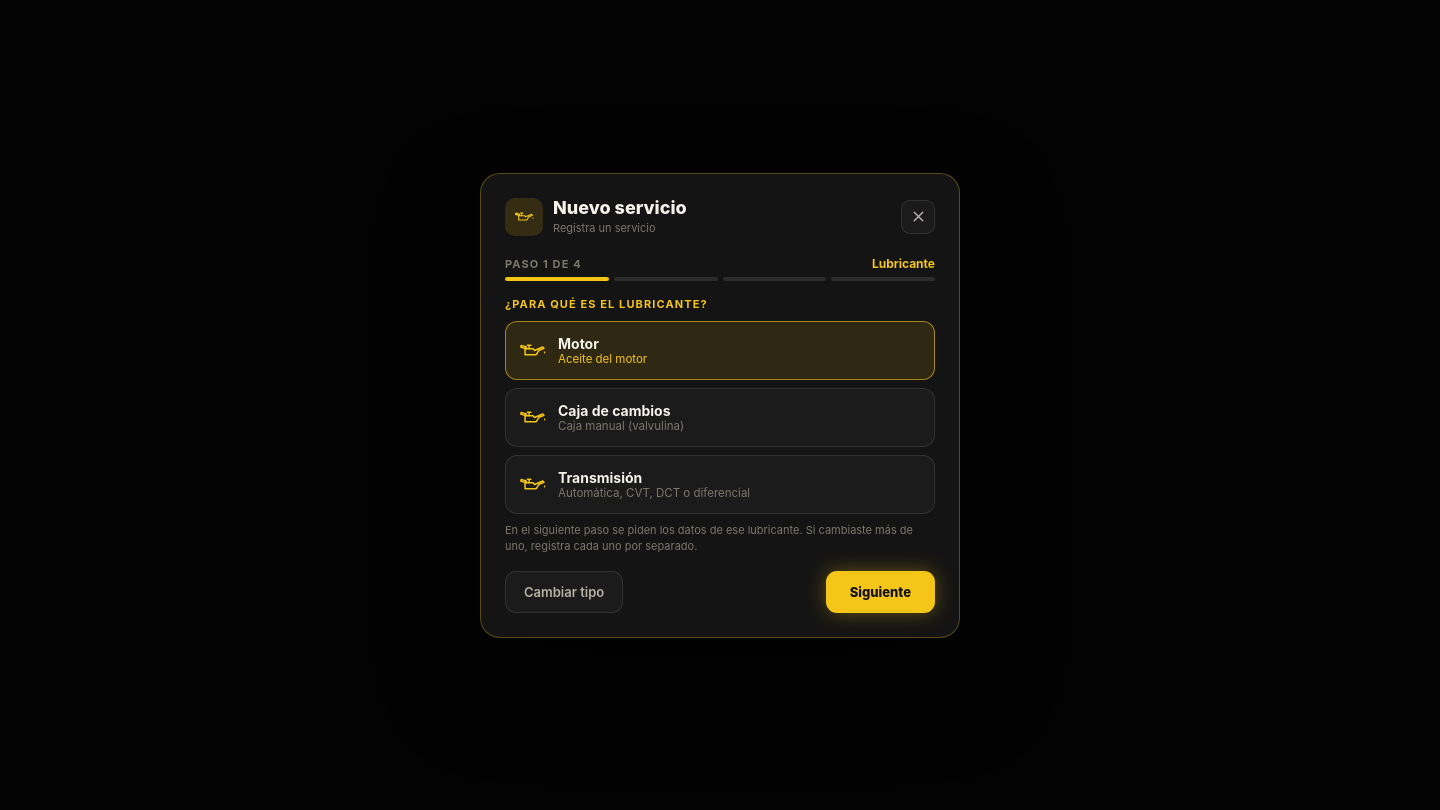
Test case: Registrar servicio > Aceite (primer paso: tipo de lubricante) › caja pide marca, viscosidad de valvulina y norma; no avanza sin marca y viscosidad
Click the radio button labelled "Caja de cambios Caja manual (valvulina)": (614, 410) [505,388,935,446]
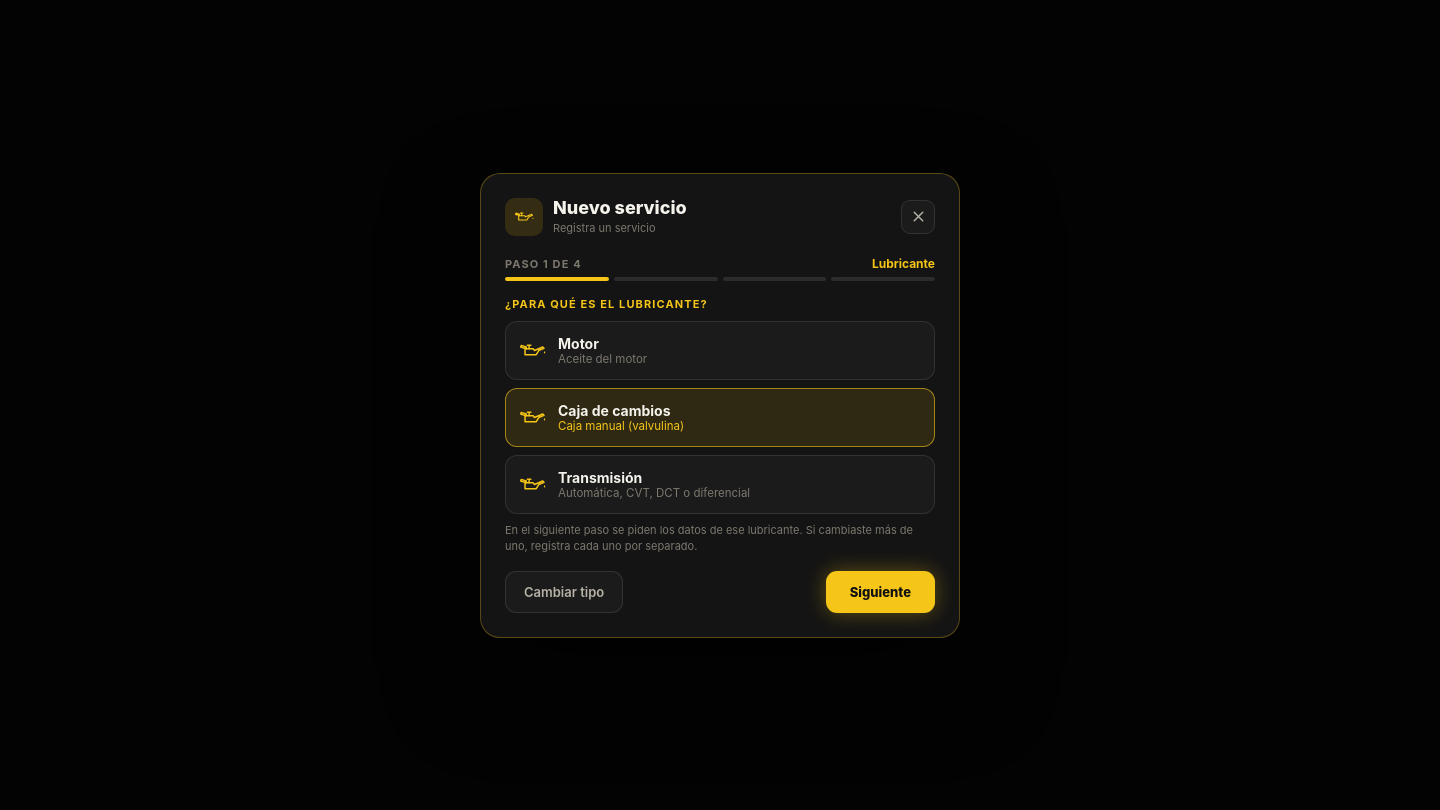
Click the button "Siguiente": (880, 592) [826,570,935,612]
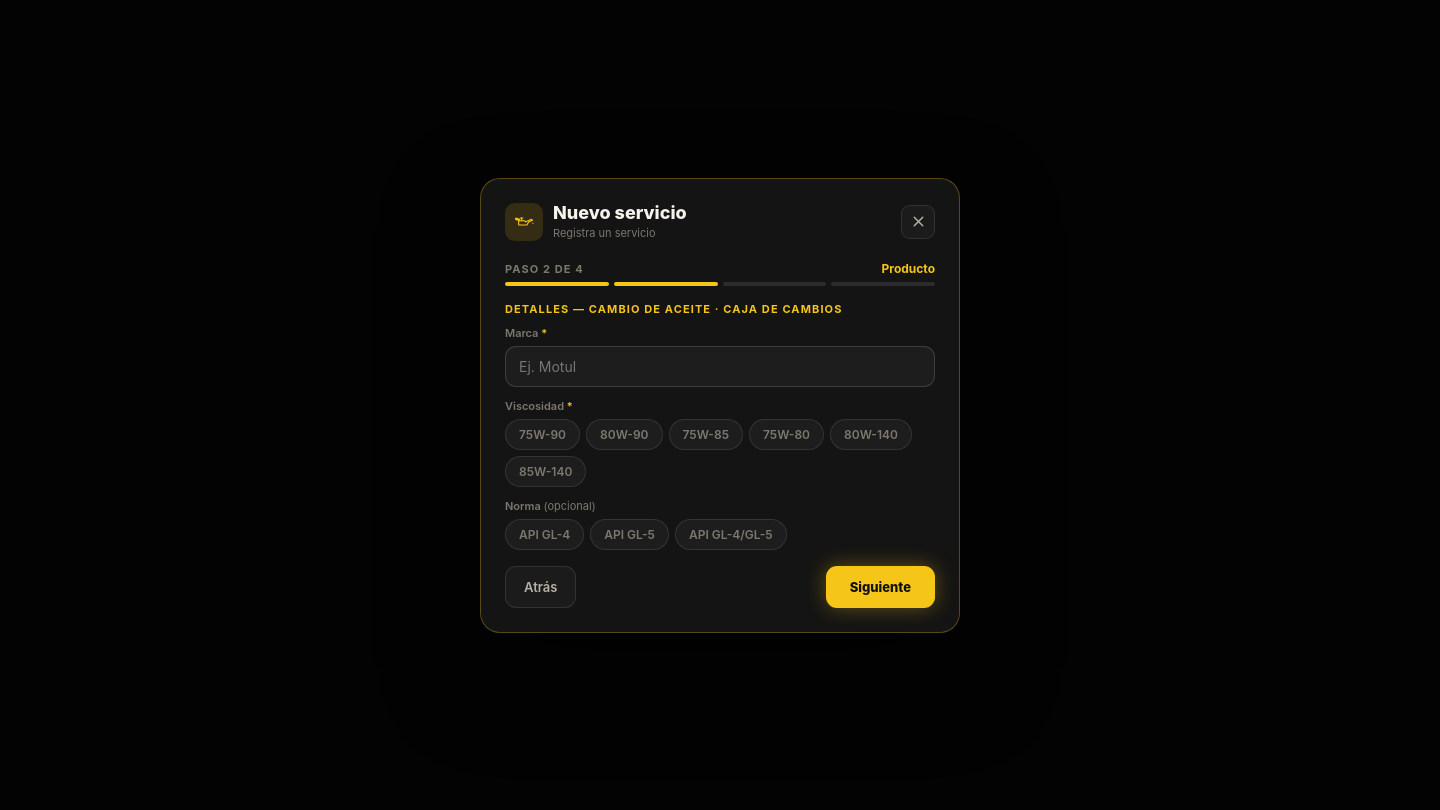
Now the radio button "75W-90" is shown, box [505,418,580,450]
Now the radio button "API GL-5" is shown, box [590,518,669,550]
Click the button "Siguiente": (880, 586) [826,566,935,608]
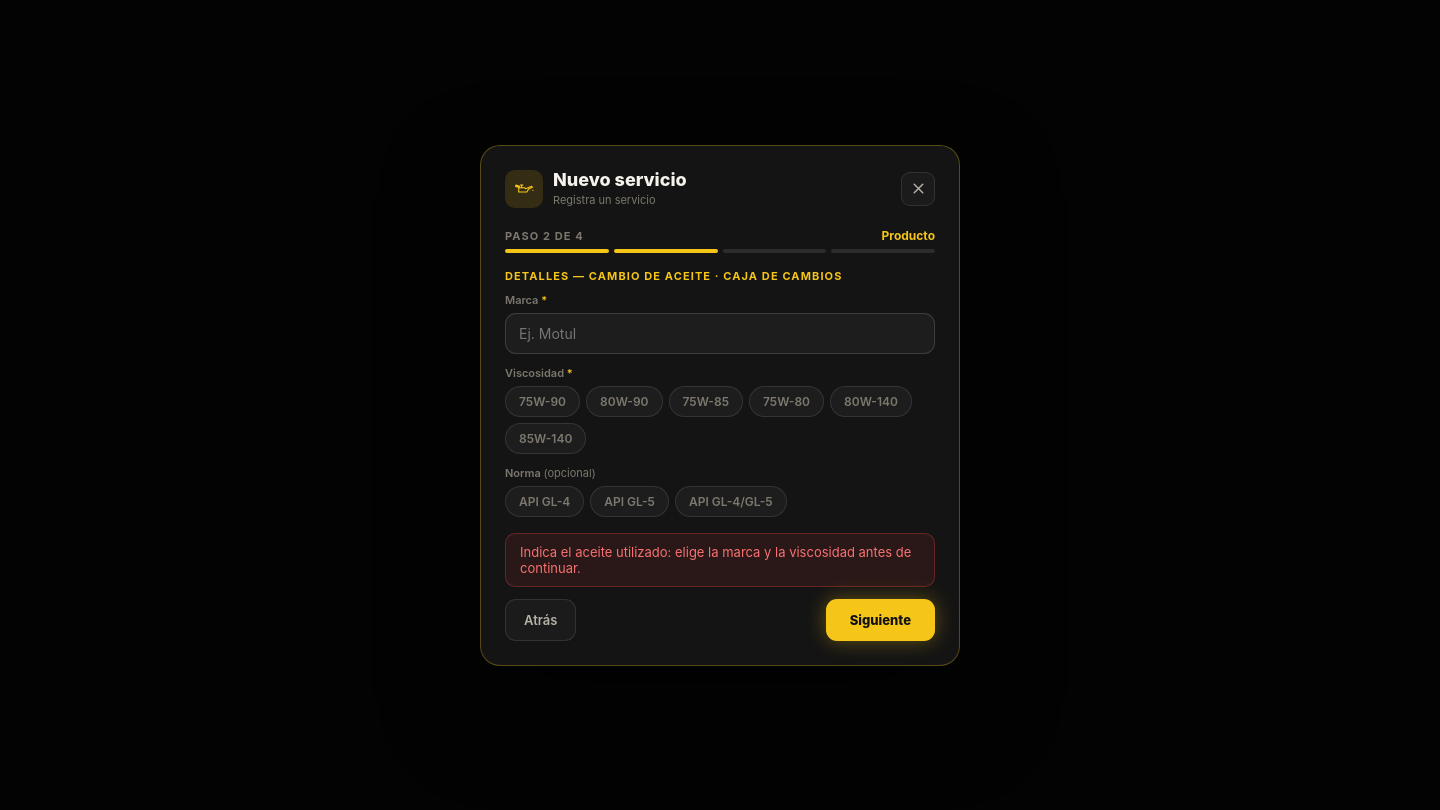
Now the text "Paso 2 de 4" is shown, box [505,228,584,242]
Now the text "Indica el aceite utilizado" is shown, box [520,544,911,576]
